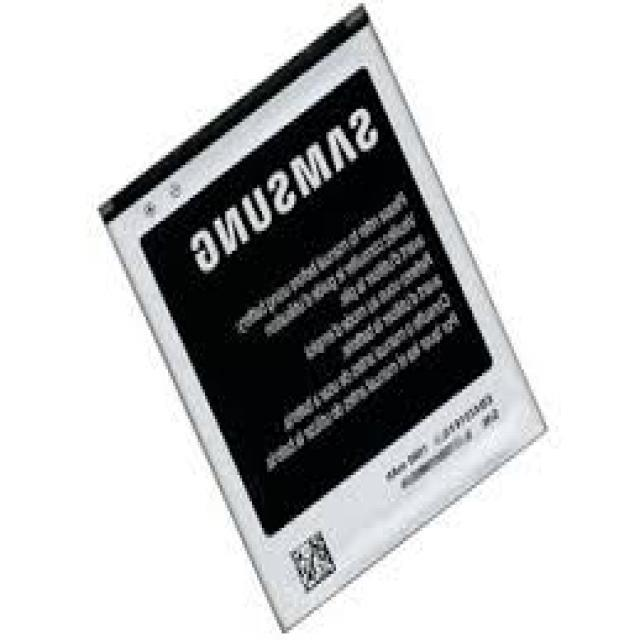battery: (101, 1, 545, 632)
